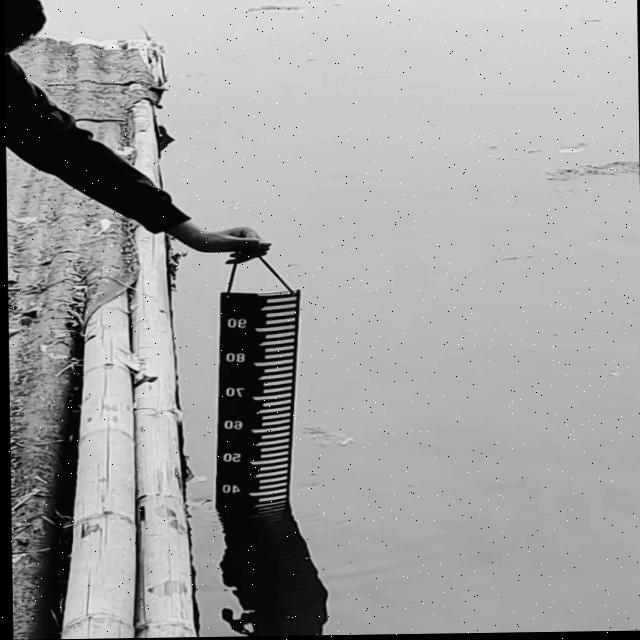water-meter: (193, 280, 316, 530)
